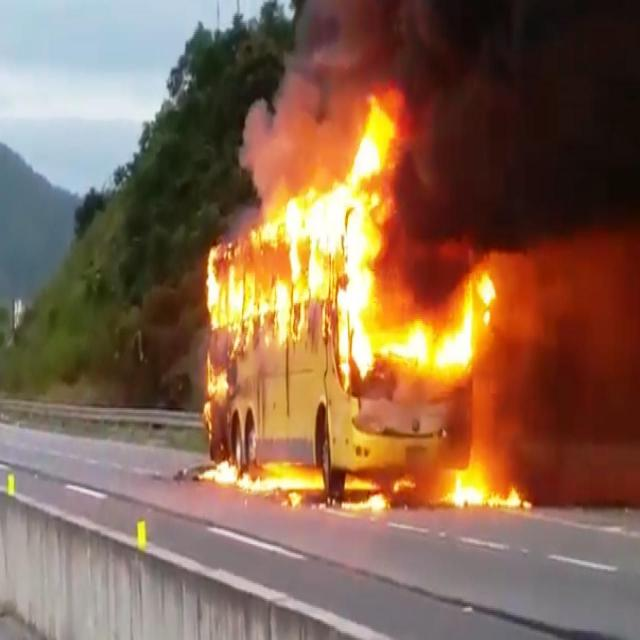fire: (209, 91, 521, 506)
